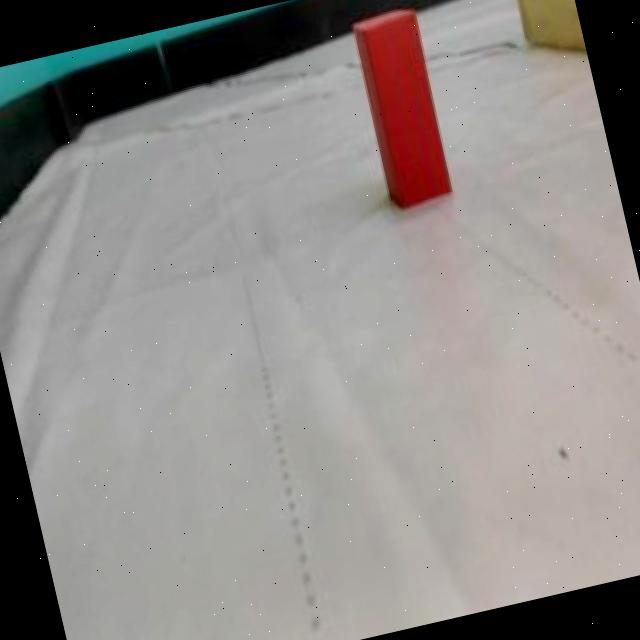redbox: (344, 0, 458, 213)
